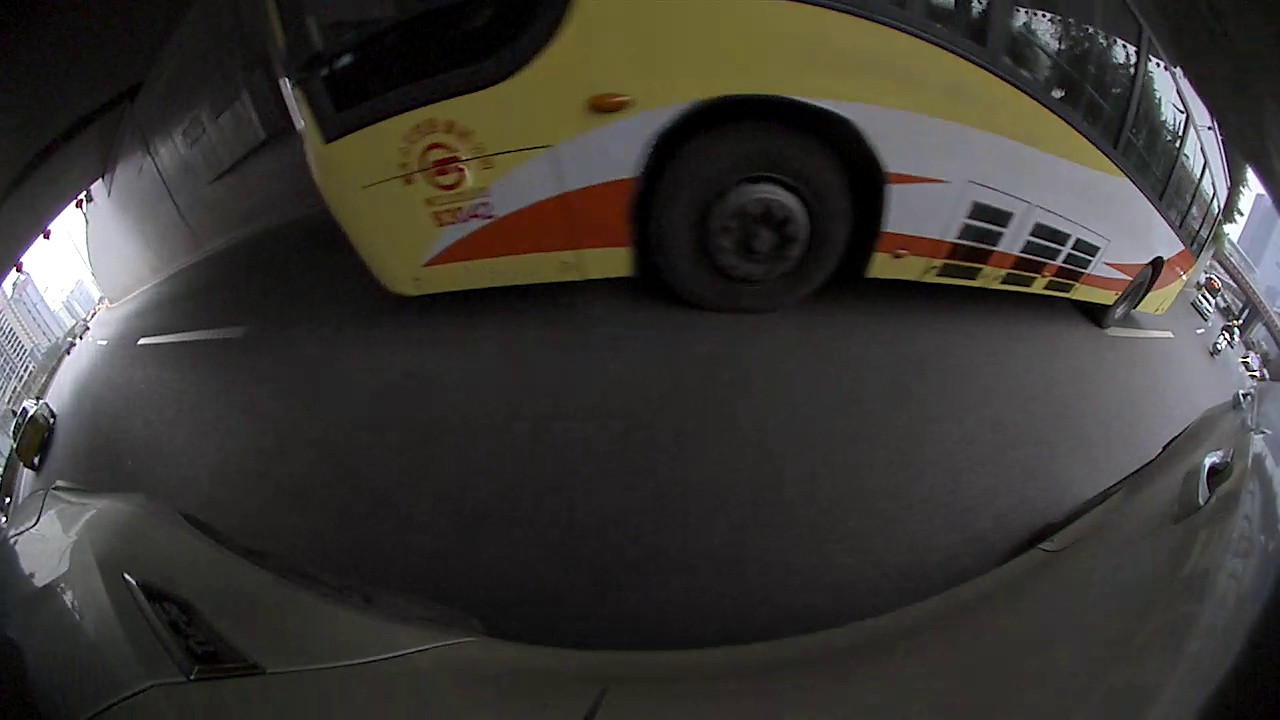bus: (795, 132, 832, 191)
car: (877, 135, 1278, 415), (0, 273, 245, 493), (341, 118, 532, 254), (748, 155, 812, 204), (530, 153, 579, 193)
front: (104, 331, 204, 443), (883, 204, 932, 266)
rear: (1086, 299, 1188, 414), (452, 198, 482, 240)
truck: (543, 0, 800, 216)
